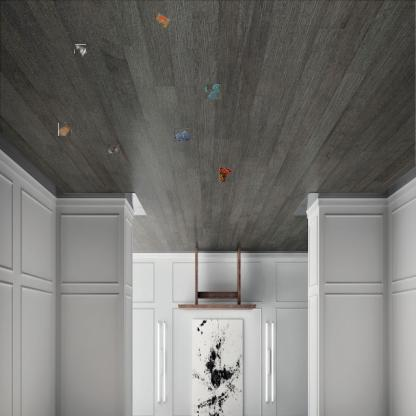dirty: (218, 164, 236, 184), (153, 10, 171, 29), (58, 122, 71, 136), (74, 44, 86, 57), (108, 144, 120, 154)
liquid: (174, 128, 190, 142), (206, 85, 220, 99)
